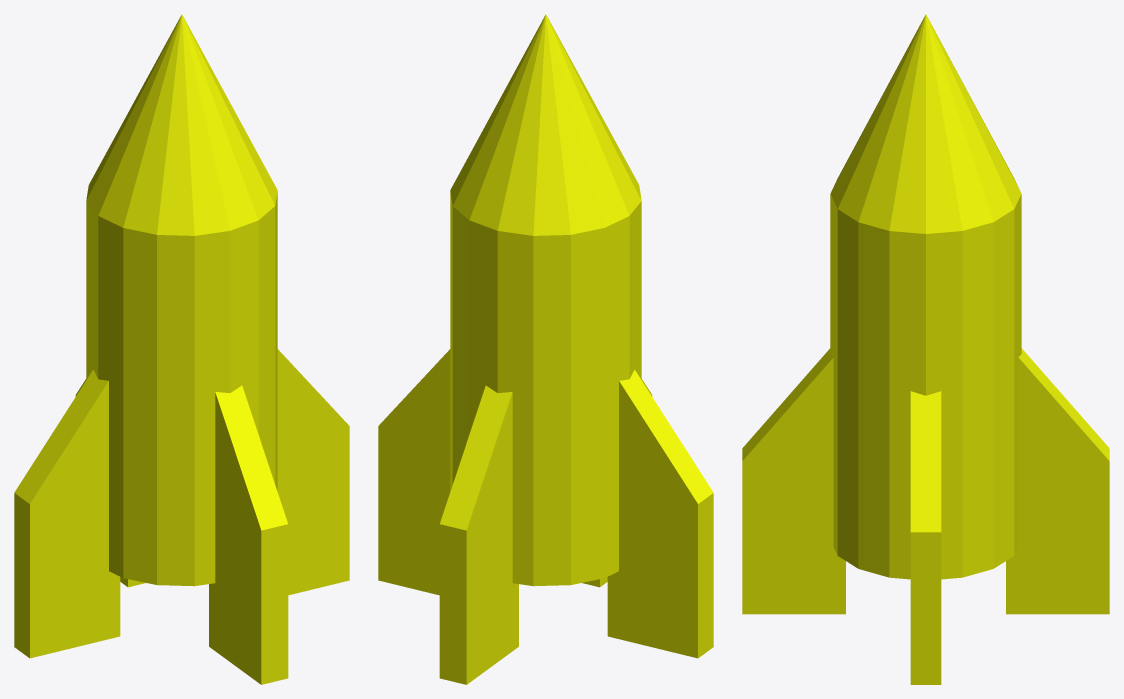
File: rocket.fbx
The picture shows the model from 3 angles, left to right: view 1: azimuth 30°, elevation 25°; view 2: azimuth 150°, elevation 25°; view 3: azimuth 270°, elevation 25°; orthographic projection.
Parts seen in each view (by area): view 1: Cylinder; view 2: Cylinder; view 3: Cylinder.
Boxes of the visible parts, x1,y1,x2,y2 form: Cylinder: [14, 14, 349, 684]; Cylinder: [378, 14, 713, 684]; Cylinder: [742, 14, 1109, 684].
Size of the model in its own units: 385 by 686 by 383.
